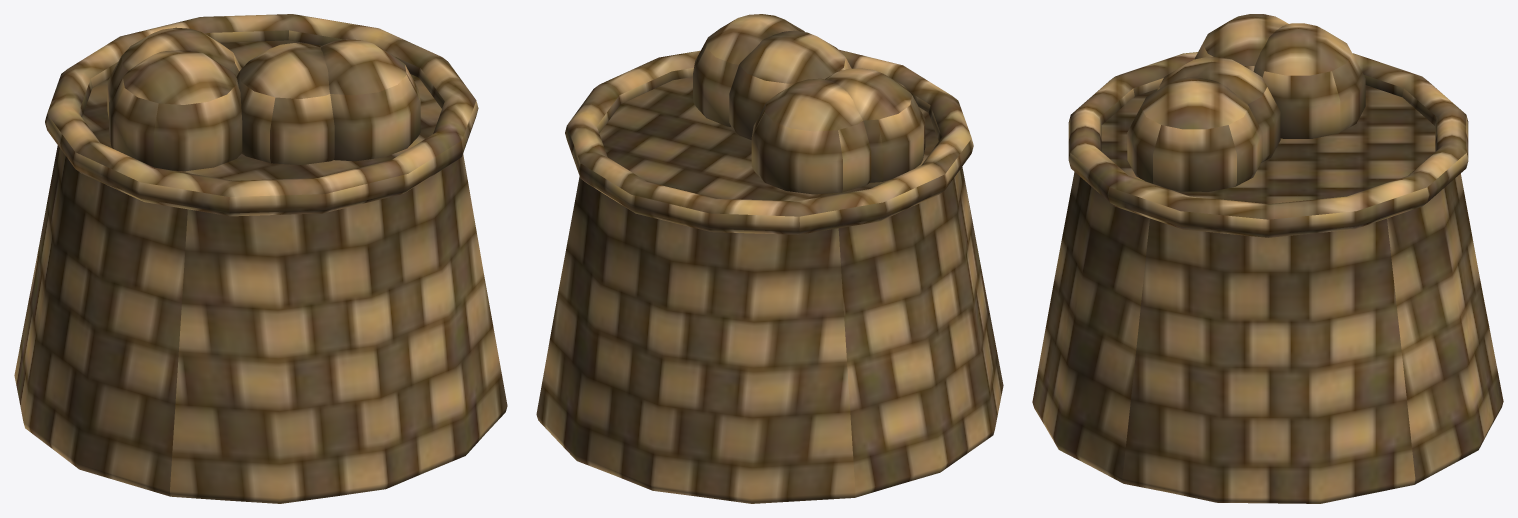
The model's file is p_basket.glb.
3 renders of one model, left to right at view 1: azimuth 30°, elevation 25°; view 2: azimuth 150°, elevation 25°; view 3: azimuth 270°, elevation 25°, orthographic. The views are drawn at different scales.
Visible parts, largest first — view 1: basket; view 2: basket; view 3: basket.
Part boxes in pixels (x1,y1,x2,y2): basket: (14,14,507,503); basket: (536,14,1003,503); basket: (1032,14,1503,503).
Size of the model in its own units: 0.4645 by 0.3908 by 0.4762.
Materials: 1 (1 with a texture image).
